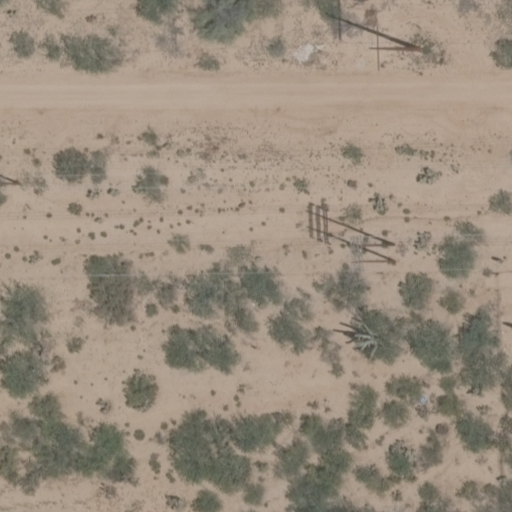DT: (328, 13, 430, 52)
TT: (344, 238, 399, 264)
